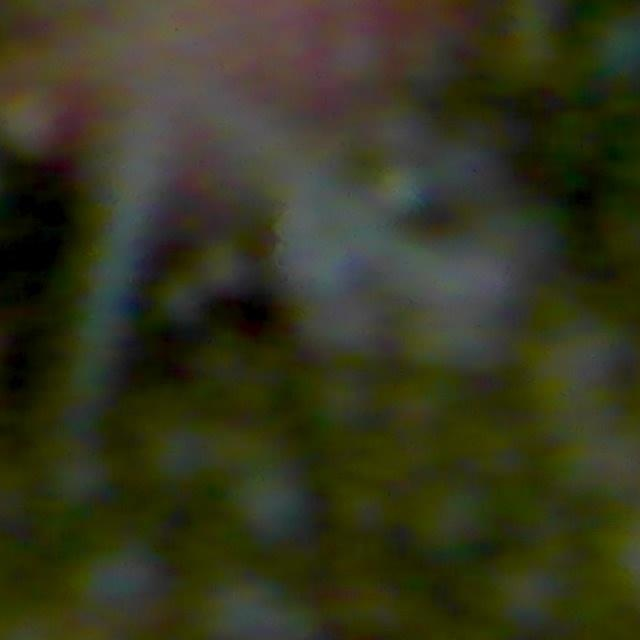SeaGrape: (71, 538, 163, 623), (230, 465, 310, 543), (204, 576, 290, 640), (0, 88, 65, 158), (589, 11, 639, 80)
